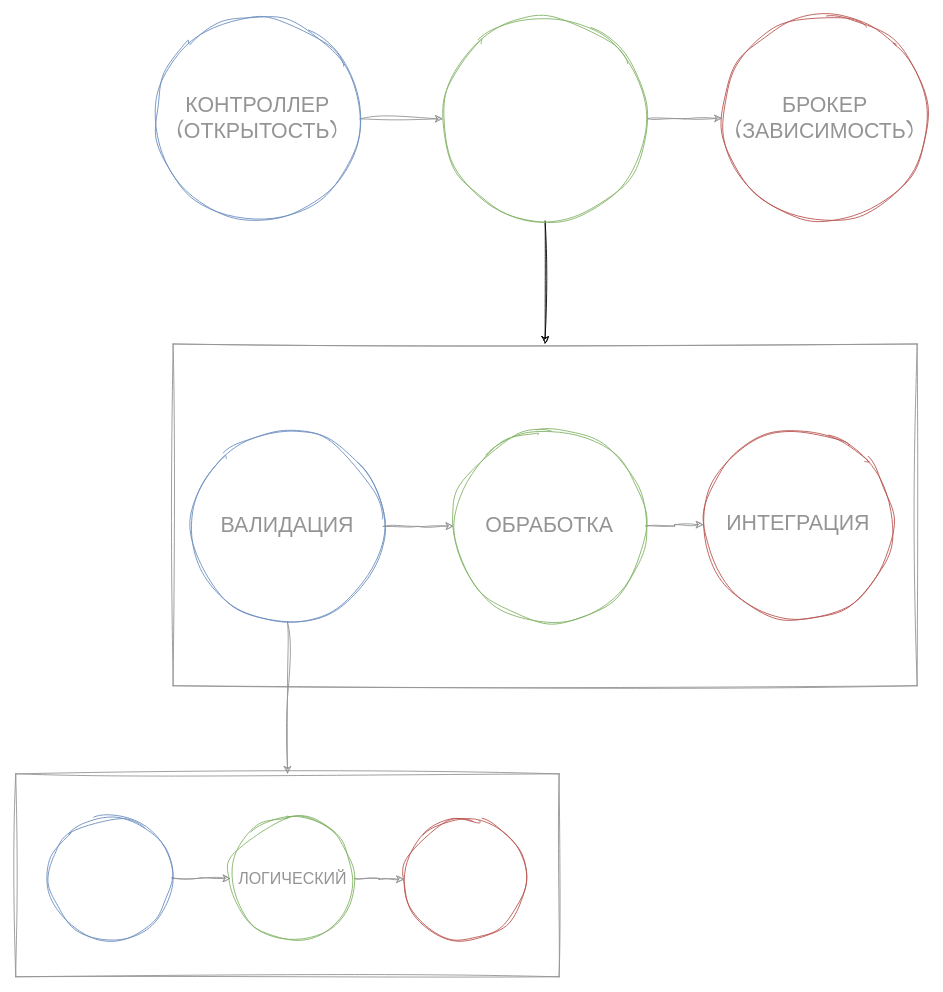
Some shapes in this 943 by 992 pixel diagram are drawn without their labels. The centre of each missing label's shape, as x and y in pixels:
ВНЕШНИЙ: (x=464, y=878)
СЕРВИС (НАЗНАЧЕНИЕ): (x=544, y=118)
СТРУКТУРНЫЙ: (x=110, y=877)
